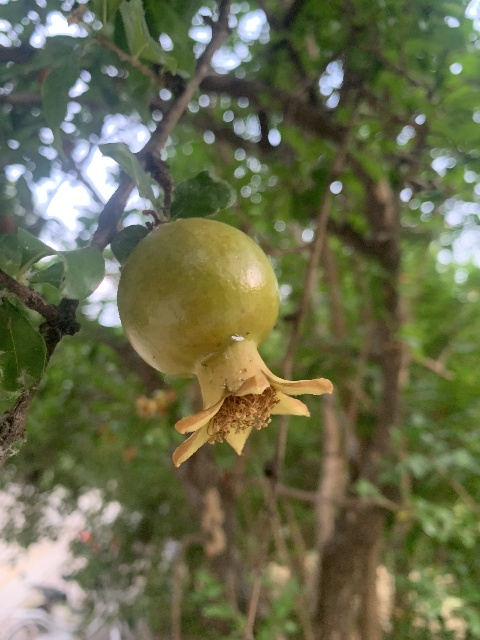mid-growth: (117, 218, 334, 467)
